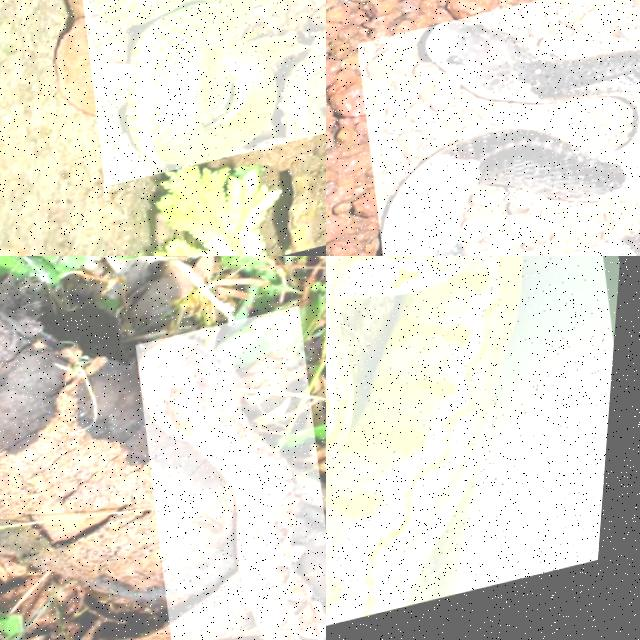Bungarus candidus: (381, 21, 639, 255)
Calloselasma rhodostoma: (138, 335, 325, 639)
Malayopython reticulatus: (326, 256, 521, 625)
Trimeresurus: (90, 0, 275, 163)
snake: (326, 256, 521, 625), (381, 21, 639, 255), (138, 335, 325, 639), (90, 0, 275, 163)
